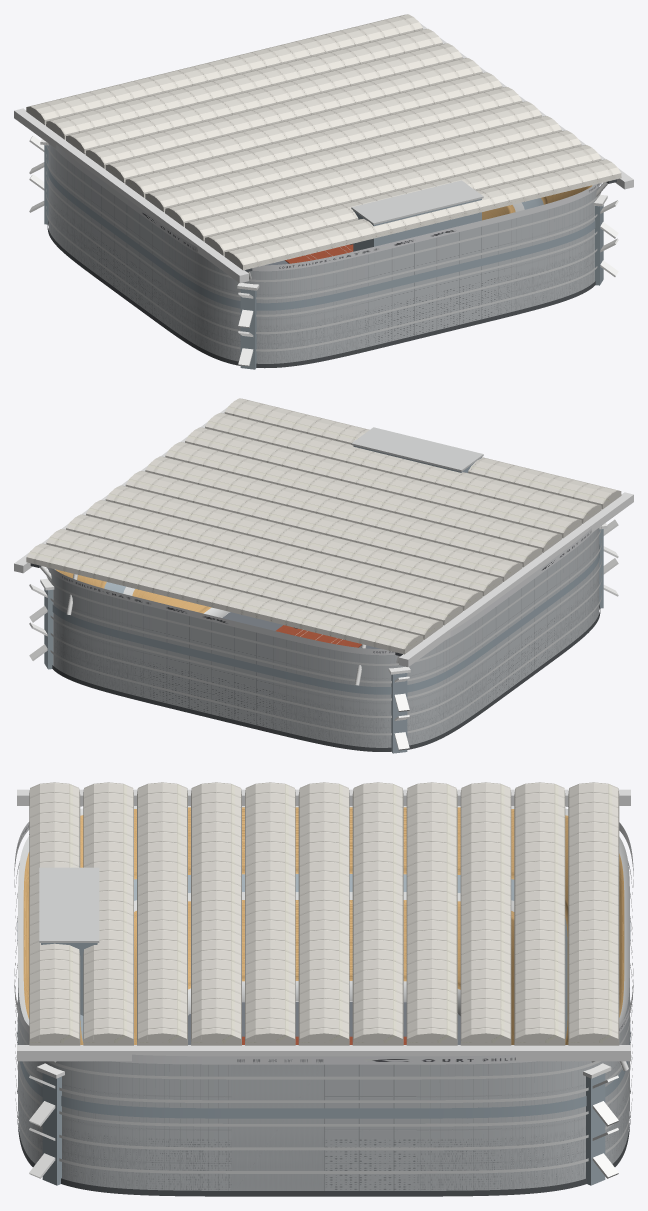
The model's file is rg_closed.glb.
The picture shows the model from 3 angles, top to bottom: view 1: azimuth 30°, elevation 25°; view 2: azimuth 150°, elevation 25°; view 3: azimuth 270°, elevation 25°; orthographic projection. The views are drawn at different scales.
Parts seen in each view (by area): view 1: Facade, Wing0, Wing6, Wing10, Wing7, Wing2, Wing5, Wing4, Wing8, Wing3, Wing9, Wing1 (+15 smaller); view 2: Facade, Wing10, Wing6, Wing4, Wing2, Wing5, Wing7, Wing9, Wing8, Wing3, Wing1, Wing0 (+15 smaller); view 3: Facade, Wing5, Wing7, Wing8, Wing6, Wing9, Wing10, Wing4, Wing2, Wing3, Wing1, Bowl (+15 smaller).
Boxes of the visible parts, x1,y1,x2,y2 form: Facade: (48,144,599,363); Wing0: (224,159,621,270); Wing6: (105,72,502,183); Wing10: (26,14,422,125); Wing7: (85,58,482,168); Wing2: (185,130,581,241); Wing5: (125,87,522,197); Wing4: (145,101,541,212); Wing8: (66,43,462,154); Wing3: (165,116,561,226); Wing9: (46,29,442,139); Wing1: (204,145,601,255); Facade: (48,528,599,747); Wing10: (26,543,423,654); Wing6: (105,485,502,596); Wing4: (145,456,542,567); Wing2: (185,427,581,538); Wing5: (125,471,522,581); Wing7: (86,500,482,610); Wing9: (46,529,442,639); Wing8: (66,514,462,625); Wing3: (165,442,561,552); Wing1: (205,413,601,523); Wing0: (224,398,621,509); Facade: (18,978,629,1190); Wing5: (298,782,349,1045); Wing7: (406,782,457,1045); Wing8: (460,782,511,1045); Wing6: (352,782,403,1045); Wing9: (514,782,565,1045); Wing10: (568,782,619,1045); Wing4: (245,782,295,1045); Wing2: (137,782,187,1045); Wing3: (191,782,241,1045); Wing1: (83,782,133,1045); Bowl: (18,806,629,1044).
Bounding box in the file's own units: 111 × 31.43 × 110.
11 materials, 5 textured.
